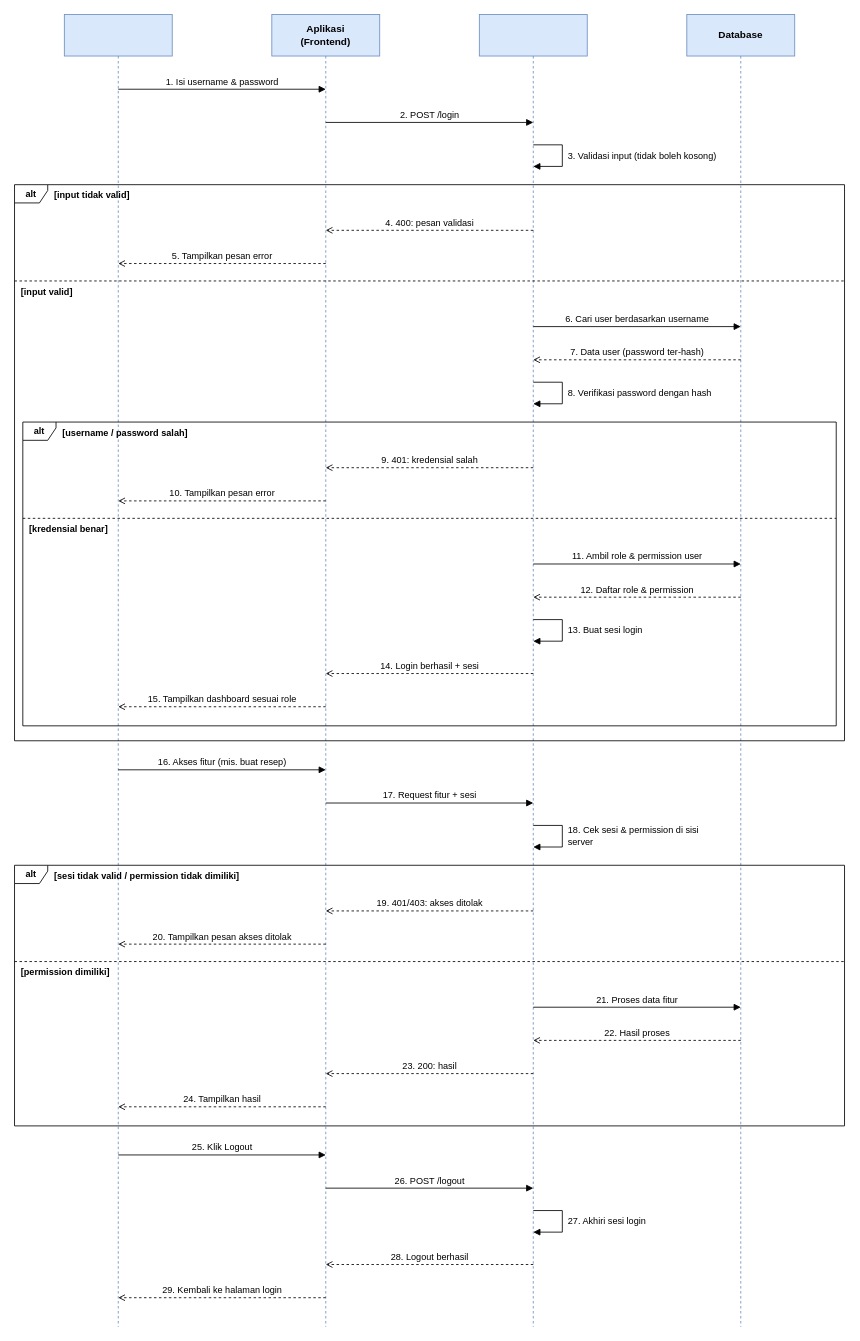
Some shapes in this 860 by 1341 pixel diagram are drawn without their labels. Here are the shapes that lost their labels. From the top down, the box of each, then its label:
(63, 14, 172, 1327): Pengguna (semua role)
(478, 14, 587, 1327): Server (Backend + RBAC)
